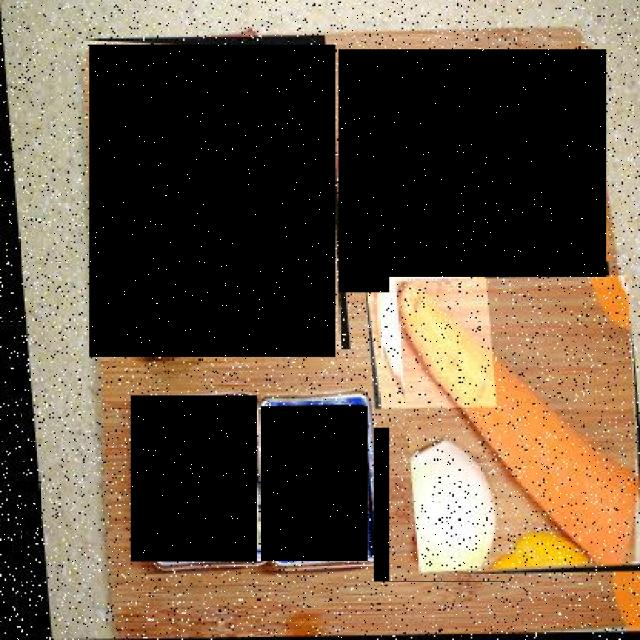Butter: (261, 406, 368, 560)
Capsicum: (338, 49, 607, 293)
Carrot: (390, 277, 638, 580)
Cheese: (132, 396, 258, 562)
Onion: (374, 429, 506, 583)
Sweet_Potato: (89, 45, 335, 357)
